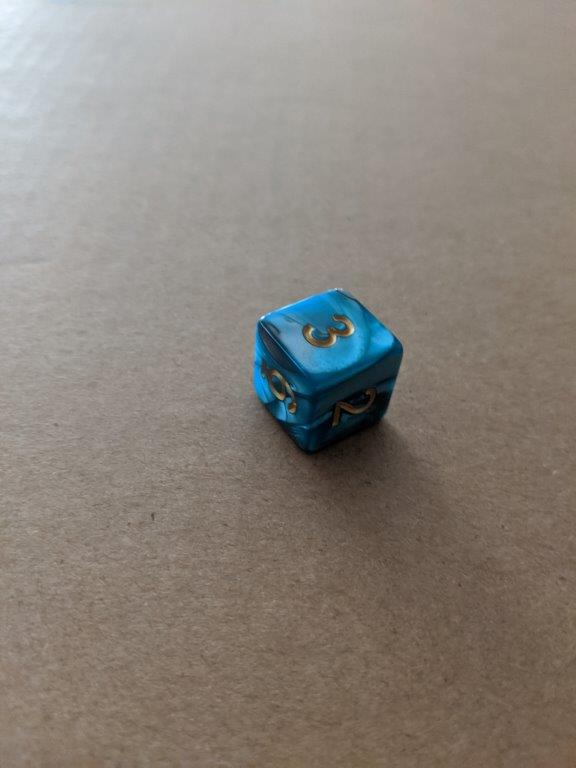d6-3: (253, 286, 403, 453)
